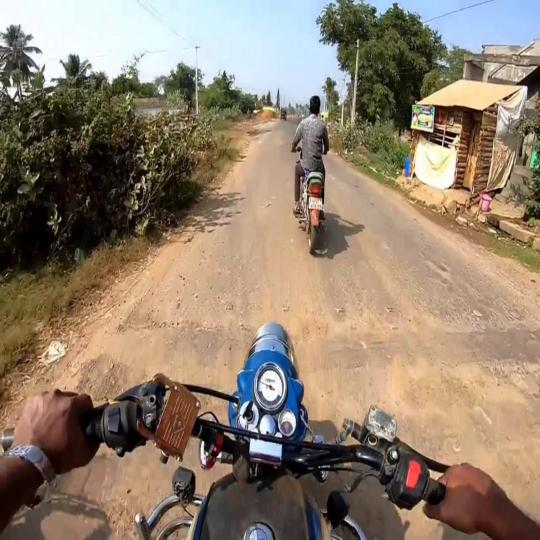Speed Bump: (296, 331, 540, 369), (91, 327, 237, 383), (402, 397, 540, 446)
